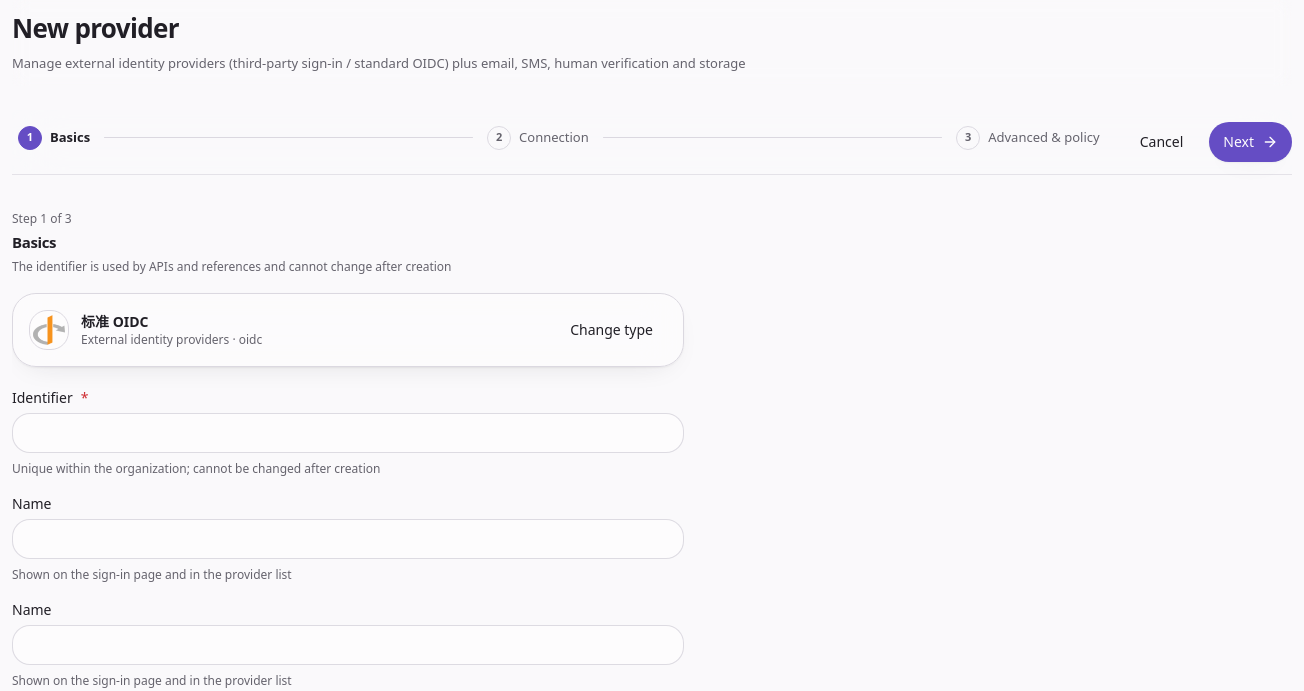
ProviderEditPage › 字段只出现在所属步骤（基本信息 → 连接配置 → 高级与策略）
Expected: the text "标准 OIDC" is shown, 81,312 -> 148,331
Expected: the text "Identifier" is shown, 12,388 -> 73,407
// 第二步：连接配置（凭据与端点）——类型卡片只在第一步出现，这里必须消失
Click the button "2 Connection" at (538, 138), box 481,122 -> 595,154
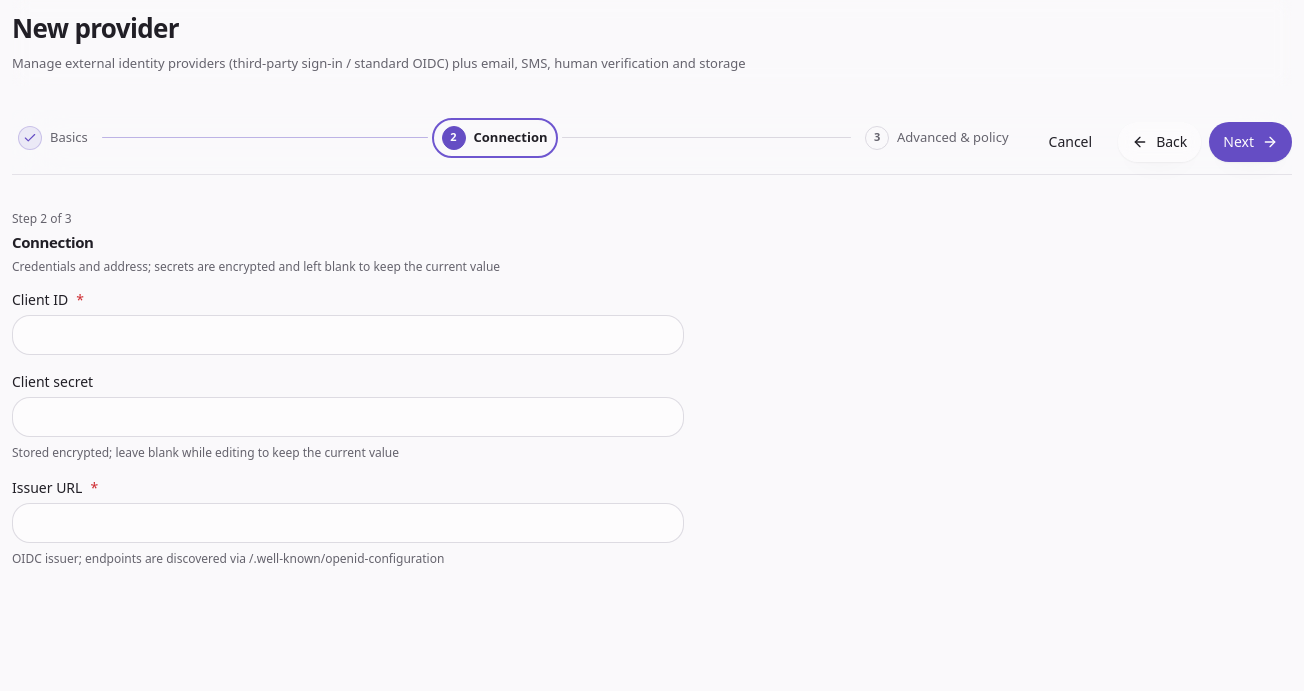
Now the text "标准 OIDC" is gone
Now the button "Change type" is gone
Now the text "Client ID" is shown, box 12,290 -> 68,309
// 第三步：高级与策略（PKCE + SSO 信任策略），并展示开发信息；类型卡片依旧不出现
Click the button "3 Advanced & policy" at (937, 138), box 859,122 -> 1014,154
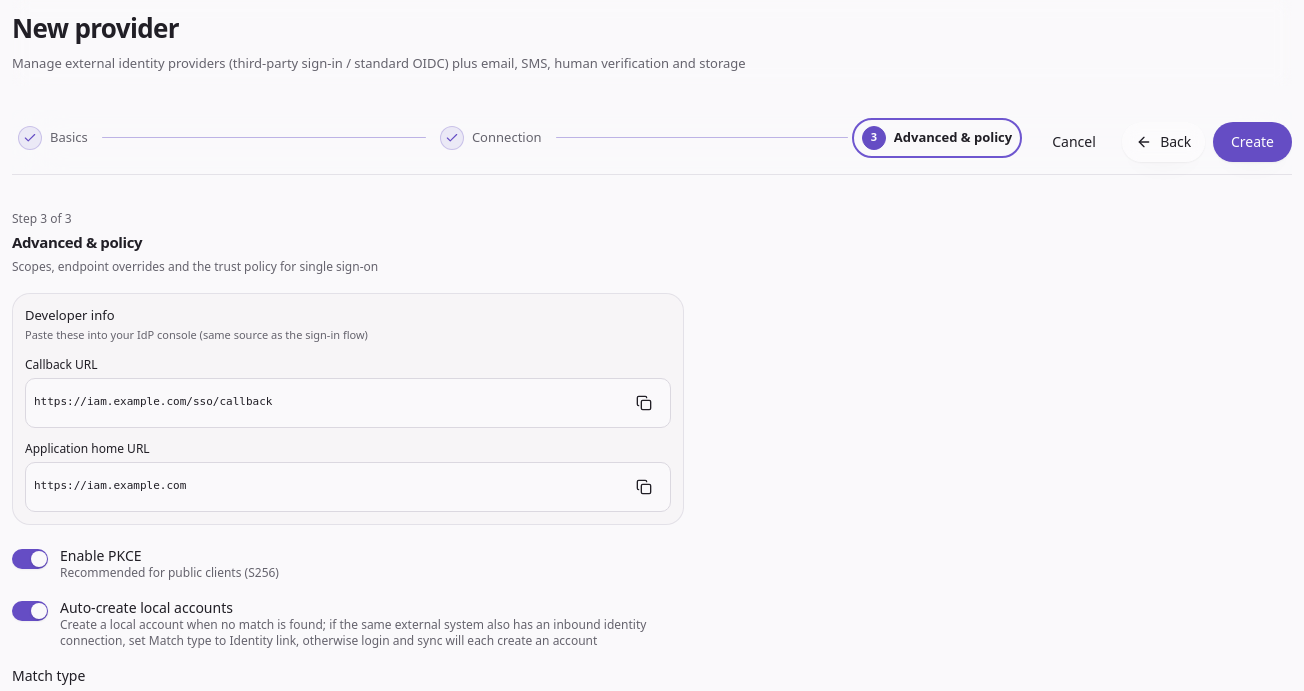
Now the text "Enable PKCE" is shown, box 60,546 -> 142,565
Now the text "Auto-create local accounts" is shown, box 60,598 -> 233,617
Now the text "Match type" is shown, box 12,666 -> 85,685
// 回到第一步：类型卡片与「更换类型」应重新出现（回归：曾写在步骤条件之外，每步都重复渲染）
Click the button "Basics" at (53, 138), box 12,122 -> 94,154
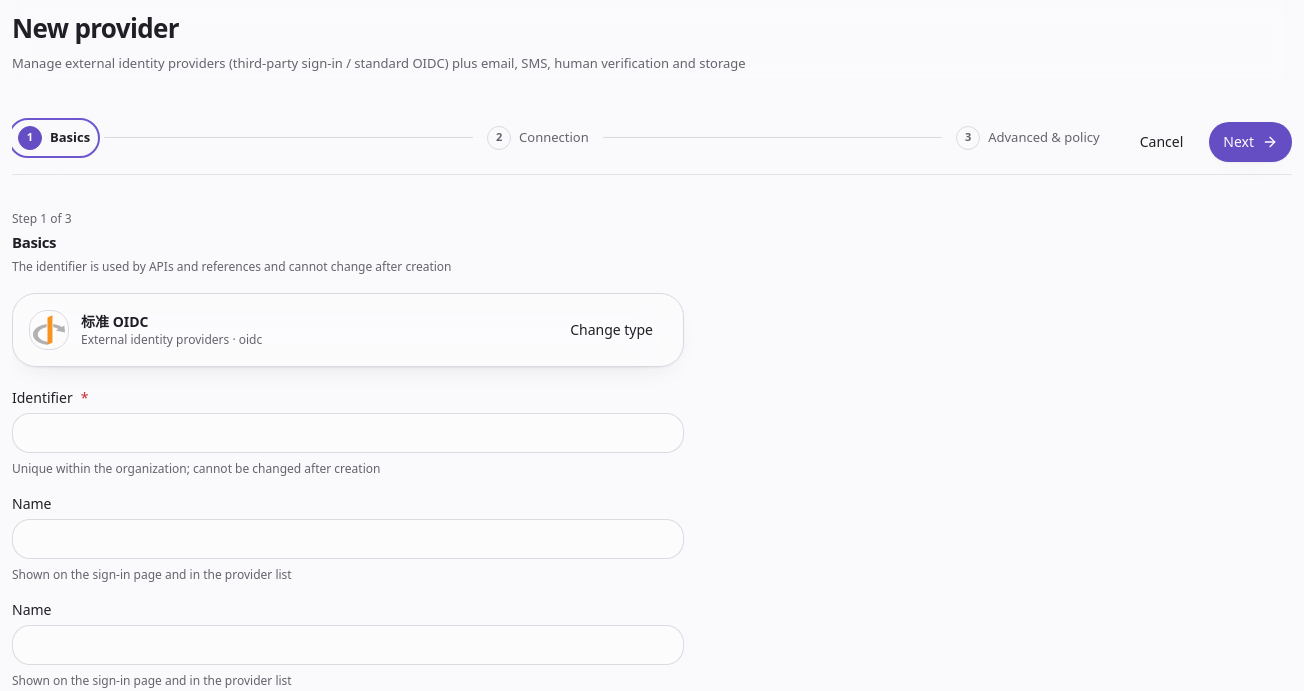
Now the text "标准 OIDC" is shown, box 81,312 -> 148,331
Now the button "Change type" is shown, box 556,314 -> 667,346
